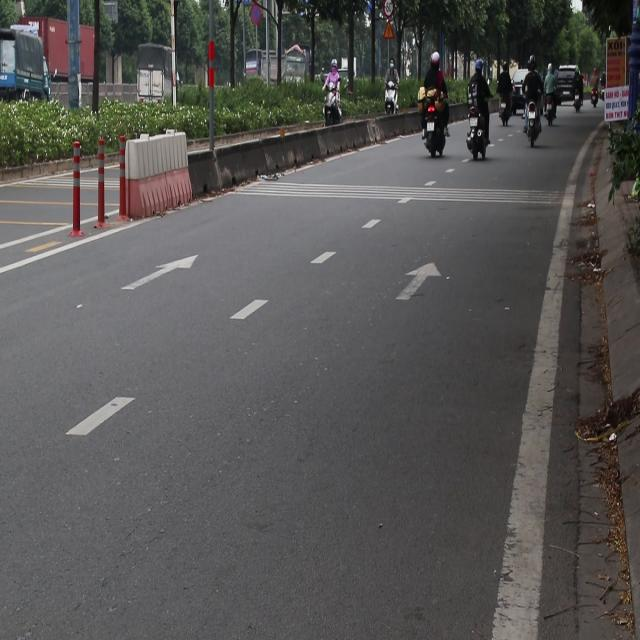car: (498, 61, 538, 104), (553, 67, 580, 103)
motorbike: (420, 92, 449, 160), (468, 98, 491, 156), (319, 91, 341, 140), (545, 92, 565, 129), (384, 80, 399, 121), (530, 92, 542, 143), (494, 91, 510, 129), (574, 83, 585, 119)
truck: (15, 11, 103, 100), (0, 26, 46, 122), (127, 43, 174, 127)
